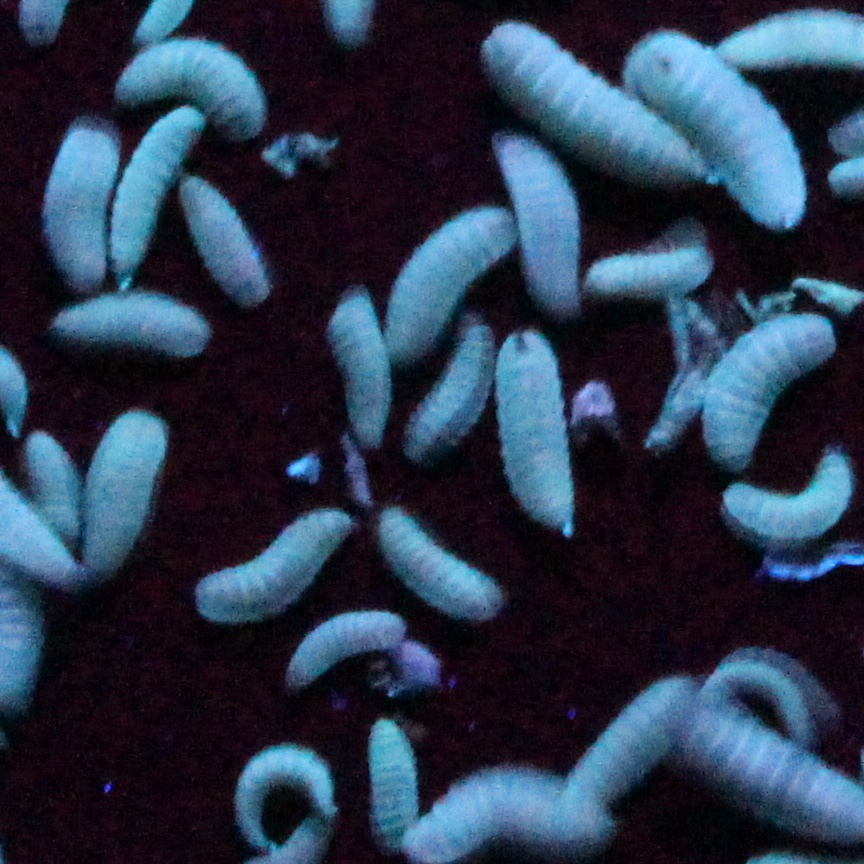larve: (475, 18, 709, 189), (622, 32, 809, 230), (707, 314, 838, 471), (387, 208, 516, 361), (189, 509, 354, 623), (489, 130, 585, 316), (580, 674, 696, 816), (494, 332, 574, 536), (82, 412, 167, 585), (125, 98, 198, 291), (376, 503, 500, 612), (123, 40, 262, 135), (725, 454, 854, 545), (47, 123, 115, 291), (184, 181, 274, 303), (231, 747, 338, 849), (329, 289, 398, 447), (52, 289, 203, 359), (296, 612, 402, 698), (20, 429, 89, 538), (371, 712, 418, 854), (581, 246, 713, 293)
